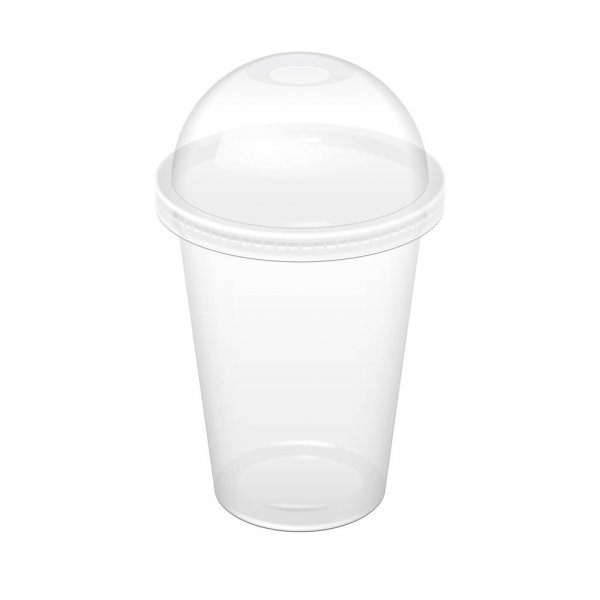plastic_glass: (143, 45, 454, 545)
